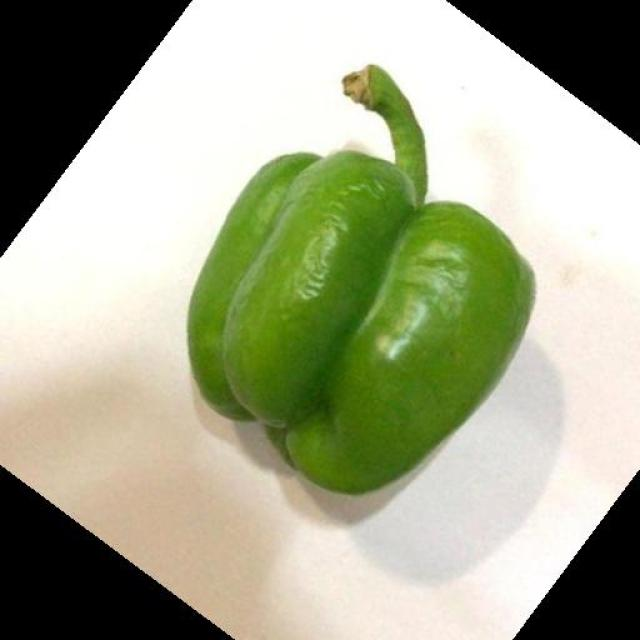Fresh_Capsicum: (206, 57, 519, 460)
